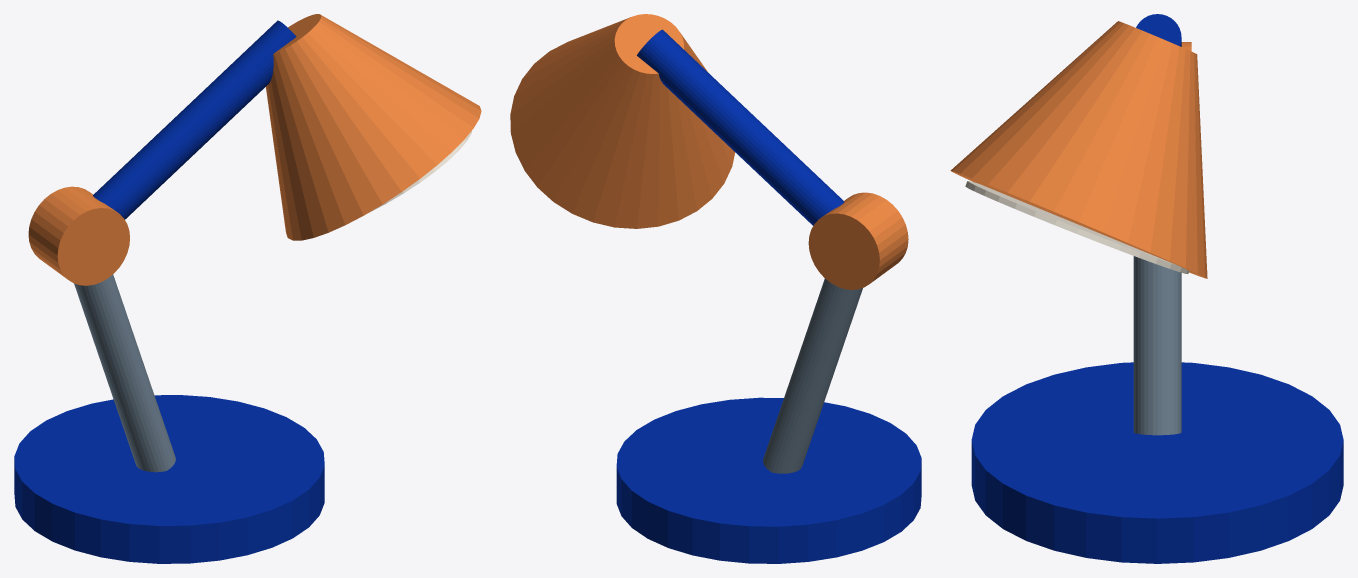
The model's file is lamp.glb.
3 renders of one model, left to right at view 1: azimuth 30°, elevation 25°; view 2: azimuth 150°, elevation 25°; view 3: azimuth 270°, elevation 25°, orthographic. The views are drawn at different scales.
Visible parts, largest first — view 1: base, shade, upper arm, lower arm, joint; view 2: base, shade, upper arm, lower arm, joint; view 3: base, shade, lower arm, diffuser, upper arm.
Part boxes in pixels (x1,y1,x2,y2): base: (14, 395, 324, 563); shade: (266, 14, 481, 240); upper arm: (93, 20, 296, 219); lower arm: (74, 274, 175, 472); joint: (28, 186, 129, 285); base: (616, 397, 921, 563); shade: (510, 14, 735, 228); upper arm: (637, 29, 844, 225); lower arm: (763, 278, 862, 473); joint: (808, 192, 908, 289); base: (971, 362, 1343, 563); shade: (950, 21, 1207, 278); lower arm: (1133, 256, 1181, 435); diffuser: (965, 181, 1189, 273); upper arm: (1136, 14, 1181, 46).
Size of the model in its own units: 1.58 by 1.67 by 1.1.
